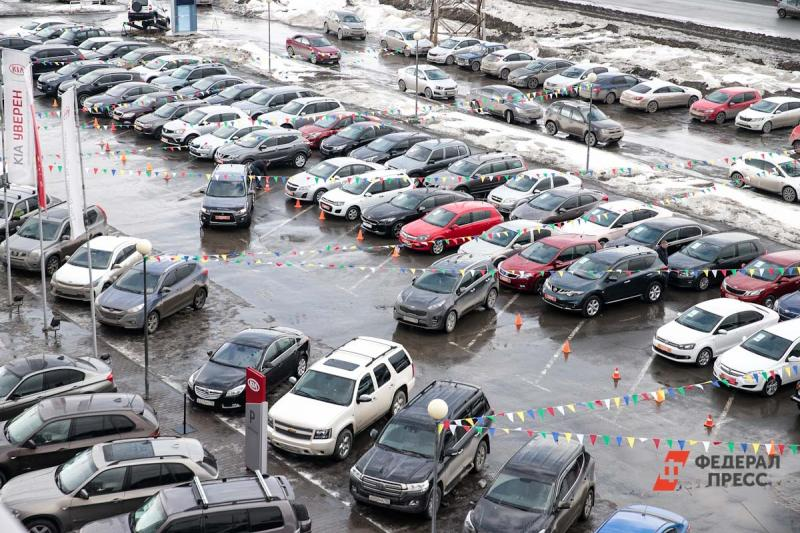Car: (0, 436, 219, 533), (349, 379, 496, 518), (267, 336, 416, 461), (0, 393, 161, 487), (75, 470, 312, 533), (462, 433, 595, 533), (187, 324, 311, 415), (537, 244, 668, 317), (95, 249, 210, 332), (651, 298, 781, 366), (392, 253, 501, 334), (0, 200, 108, 276), (0, 354, 117, 420), (712, 317, 800, 396), (49, 235, 149, 301), (497, 233, 603, 291), (360, 186, 476, 237), (397, 199, 504, 254), (668, 232, 769, 290), (561, 198, 677, 248), (457, 219, 571, 267), (318, 167, 417, 221), (421, 150, 528, 195), (284, 156, 389, 201), (720, 249, 800, 308), (487, 167, 585, 214), (604, 217, 720, 256), (384, 138, 472, 187), (215, 129, 312, 173), (508, 185, 609, 226), (160, 105, 254, 149), (189, 119, 287, 161), (726, 151, 800, 204), (199, 162, 256, 229), (544, 99, 624, 145), (58, 68, 147, 108), (83, 80, 174, 118), (297, 111, 383, 148), (320, 121, 406, 158), (0, 183, 52, 243), (112, 91, 201, 126), (134, 99, 212, 138), (257, 96, 347, 129), (230, 85, 314, 120), (347, 131, 433, 165), (36, 60, 116, 96), (689, 86, 763, 124), (469, 85, 544, 122), (619, 80, 703, 113), (594, 505, 689, 533), (543, 63, 614, 97), (151, 62, 231, 91), (734, 97, 800, 132), (22, 43, 86, 79), (579, 72, 651, 104), (396, 64, 458, 100), (507, 57, 576, 88), (129, 55, 203, 83), (174, 75, 256, 99), (480, 49, 543, 79), (285, 32, 342, 64), (427, 36, 489, 65), (455, 41, 509, 71), (379, 27, 433, 56), (203, 83, 270, 105), (127, 0, 172, 32), (110, 47, 172, 70), (323, 9, 367, 41), (43, 27, 112, 47), (84, 41, 151, 60), (7, 17, 80, 34), (35, 23, 88, 43), (772, 289, 800, 322), (78, 37, 124, 55), (0, 32, 43, 50), (776, 0, 800, 17), (789, 124, 800, 154), (790, 381, 800, 409), (196, 0, 213, 6)
